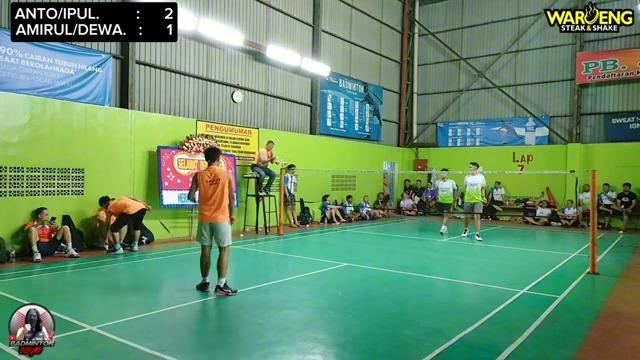Shuttlecock: (104, 242, 110, 252)
